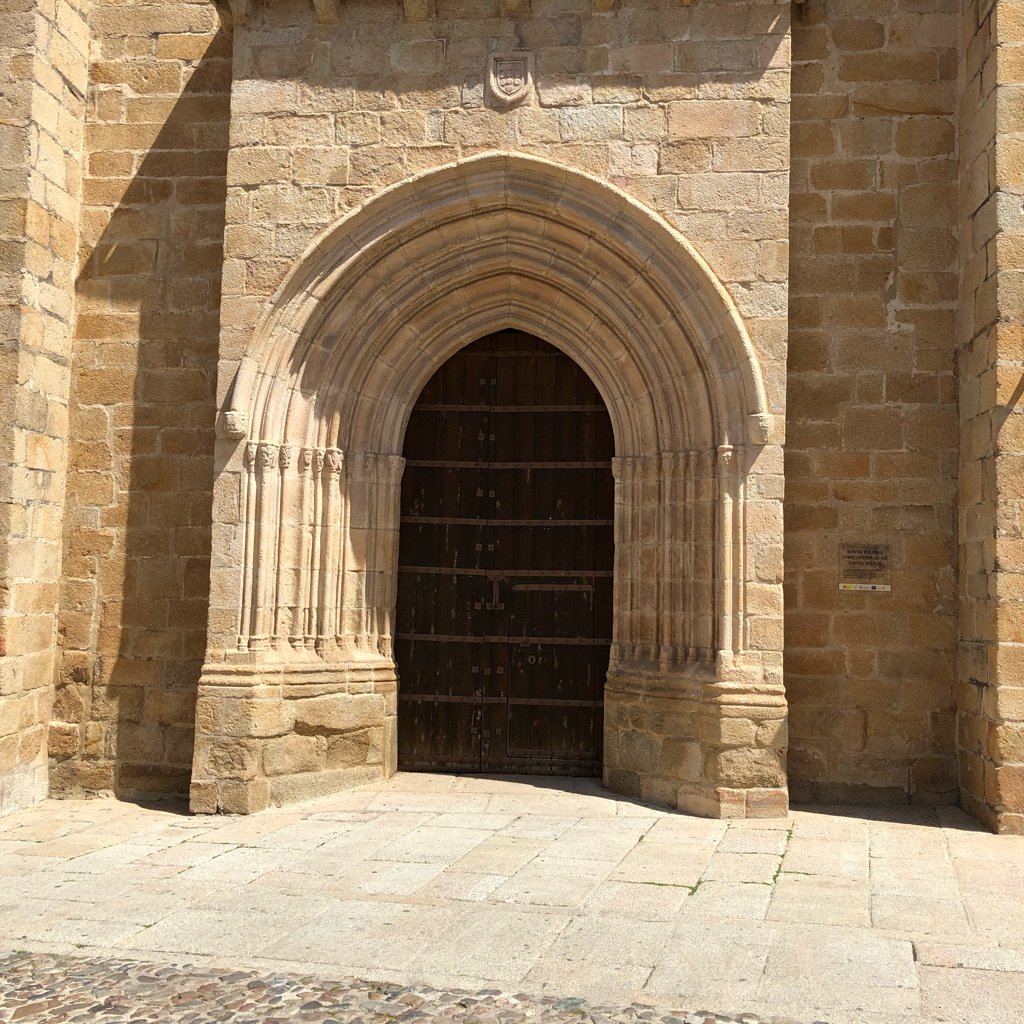arco-apuntado: (316, 163, 729, 464), (368, 240, 682, 468)
